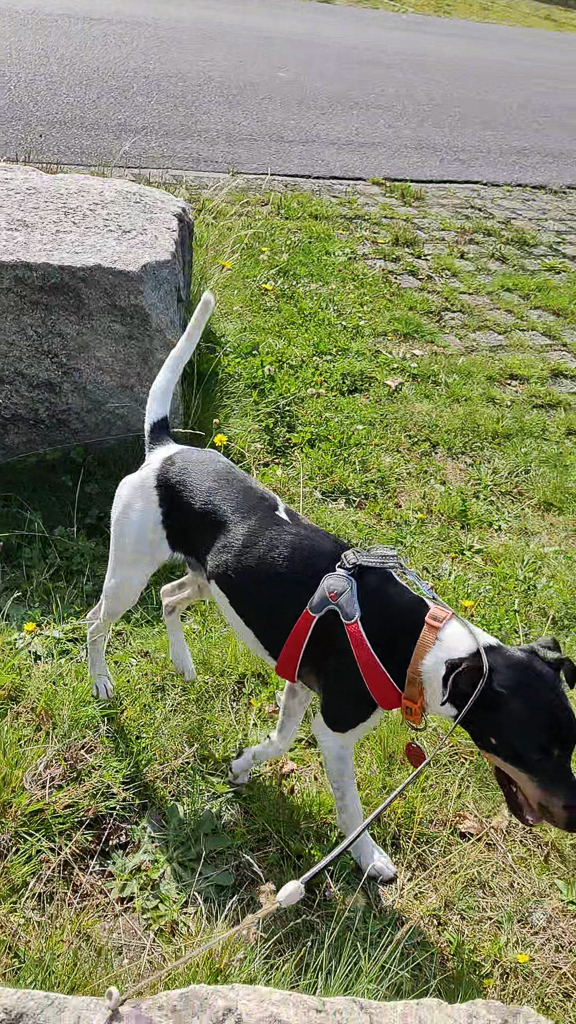Dog: (53, 270, 576, 892)
